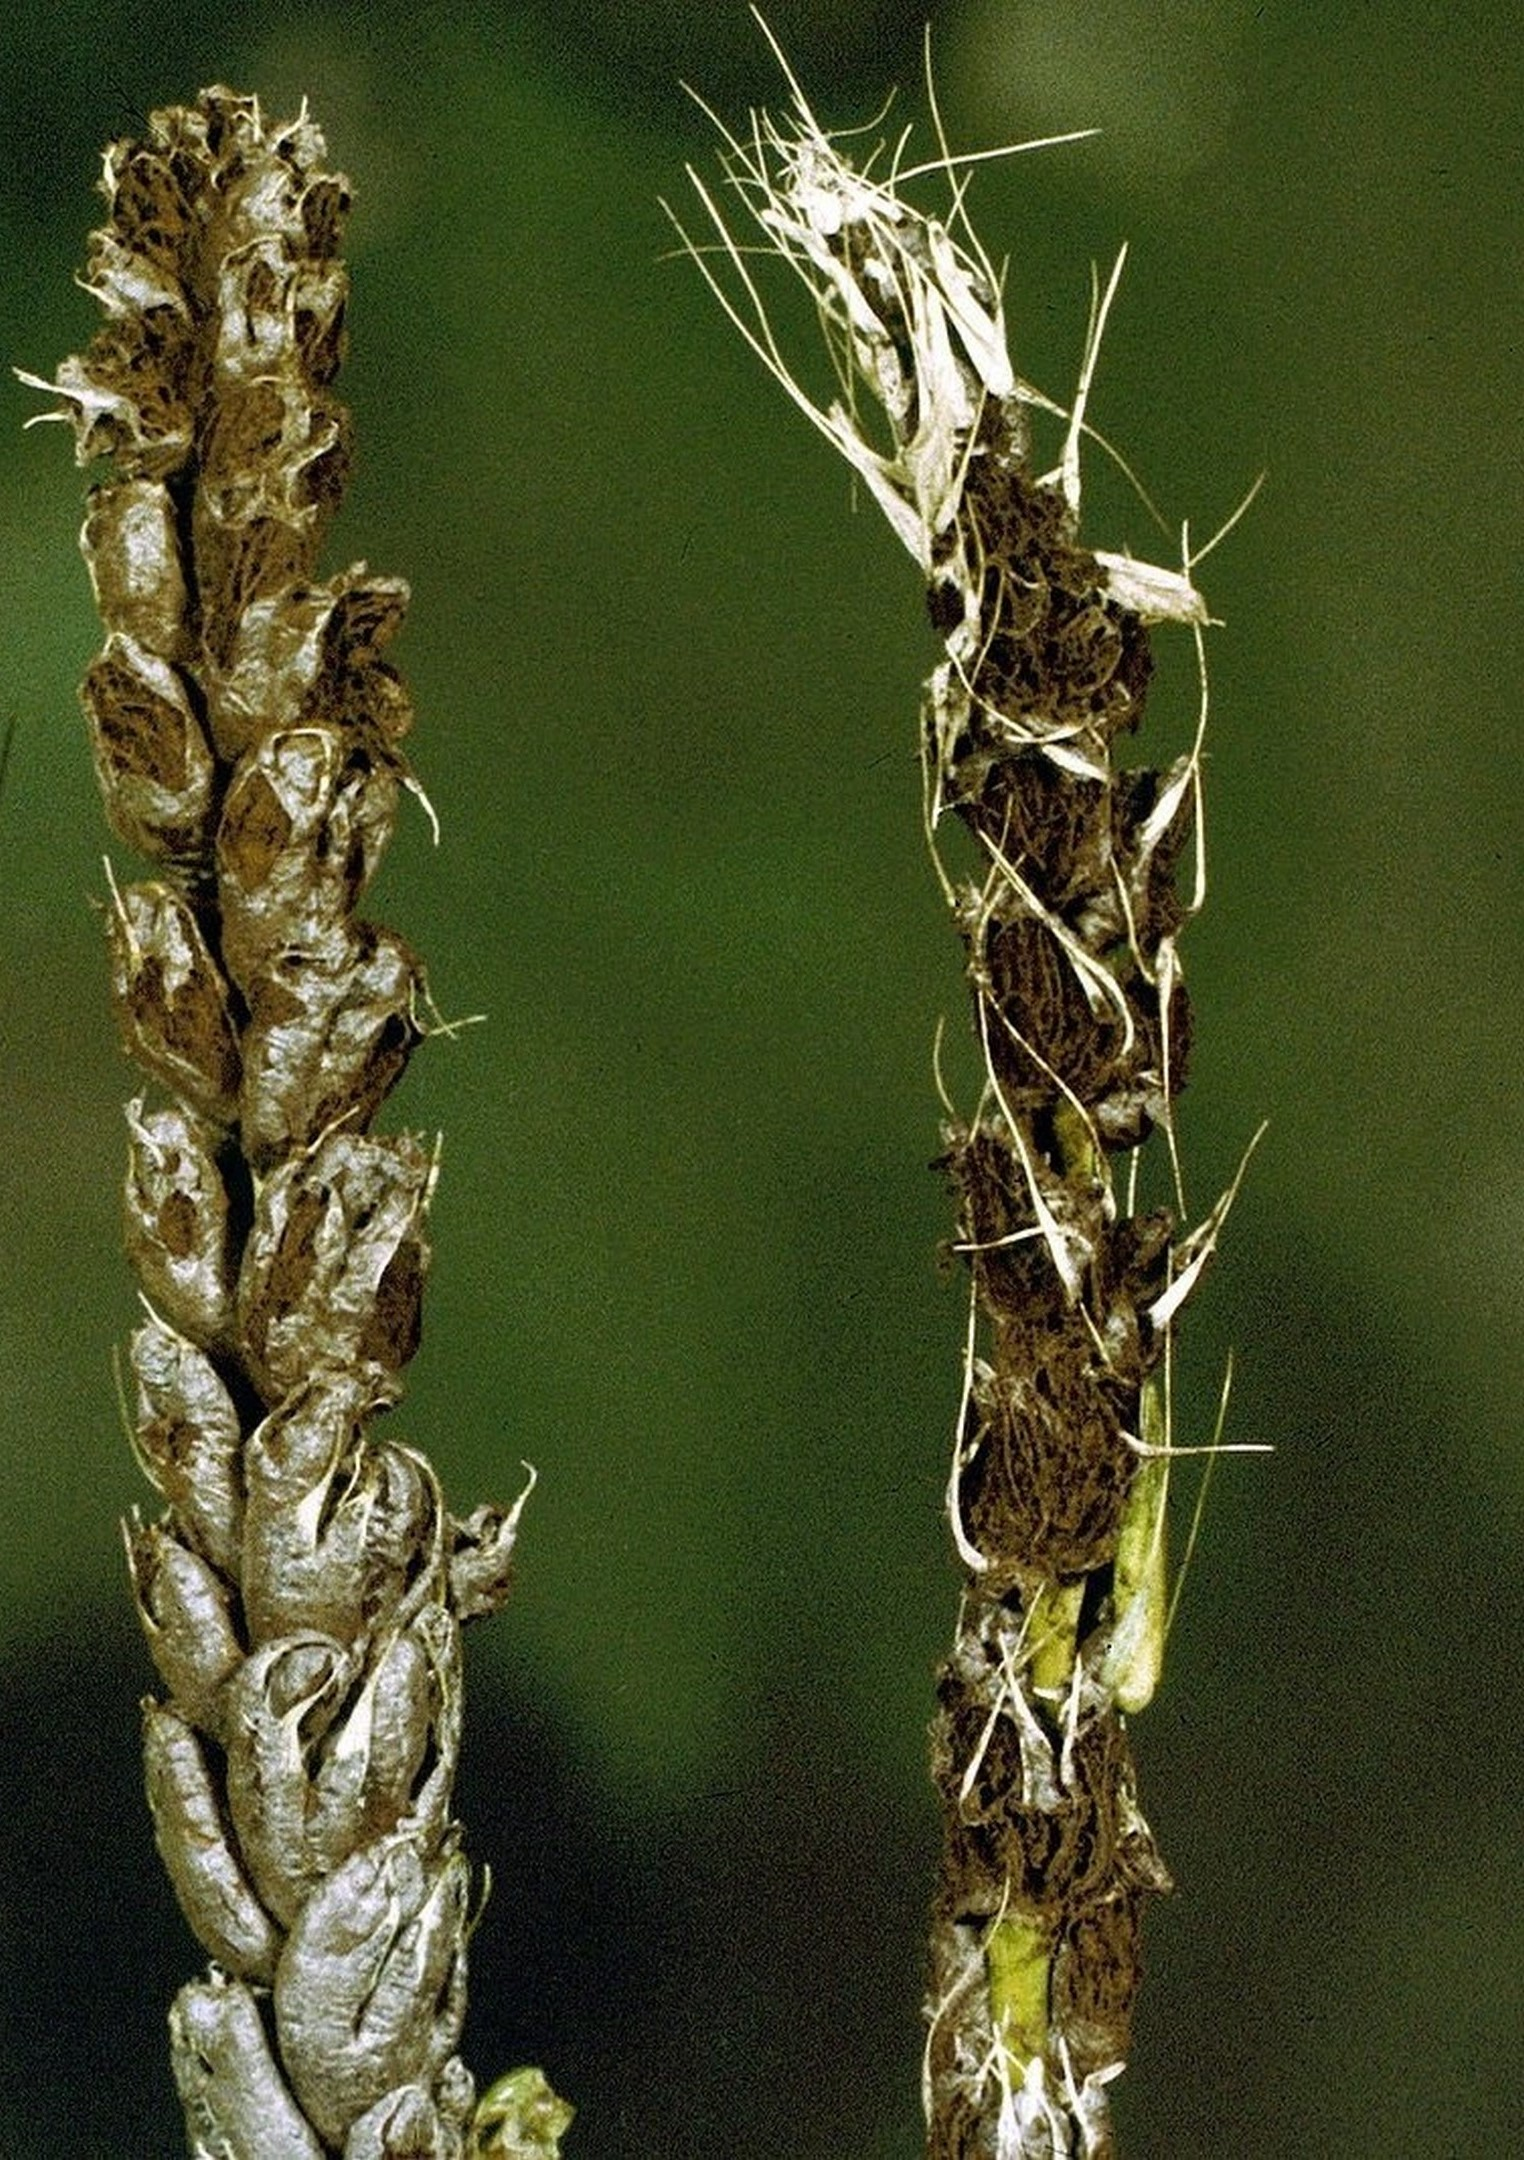Wheat Loose Smut: (58, 77, 595, 2153), (731, 139, 1258, 2160)
